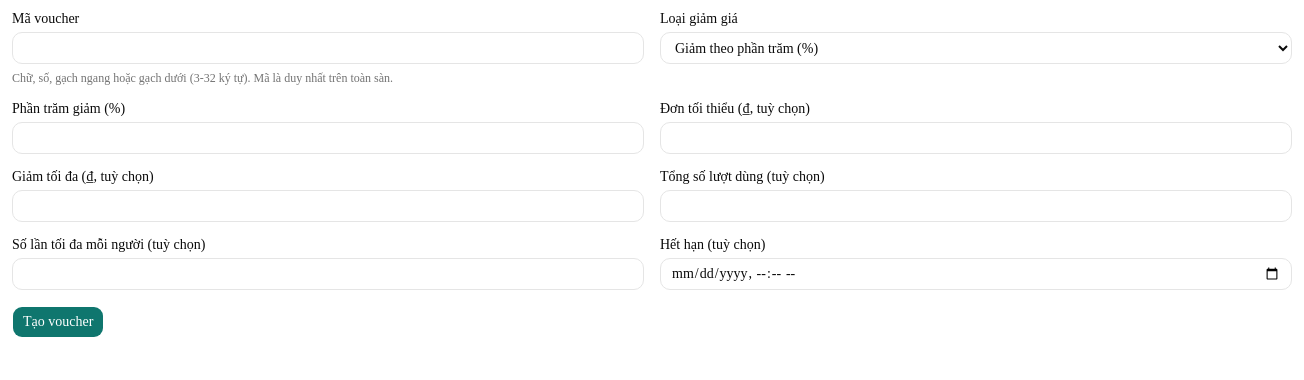
Scenario: VoucherForm › PERCENT vượt 100 -> lỗi tại ô giá trị (tái dùng luật của BE)
Type "SALE10" into the field labelled "Mã voucher" at (328, 48), box [12, 32, 644, 64]
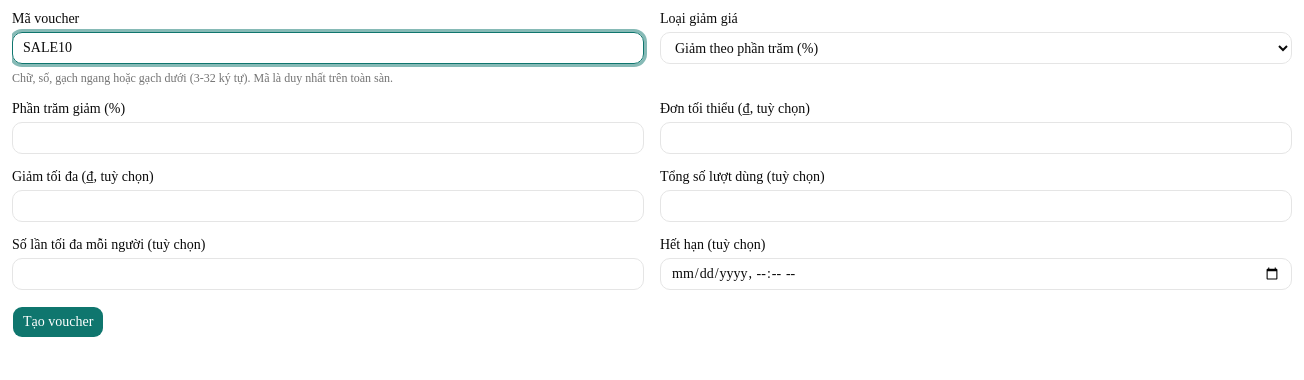
Type "150" into the number field labelled "Phần trăm giảm (%)" at (328, 138), box [12, 122, 644, 154]
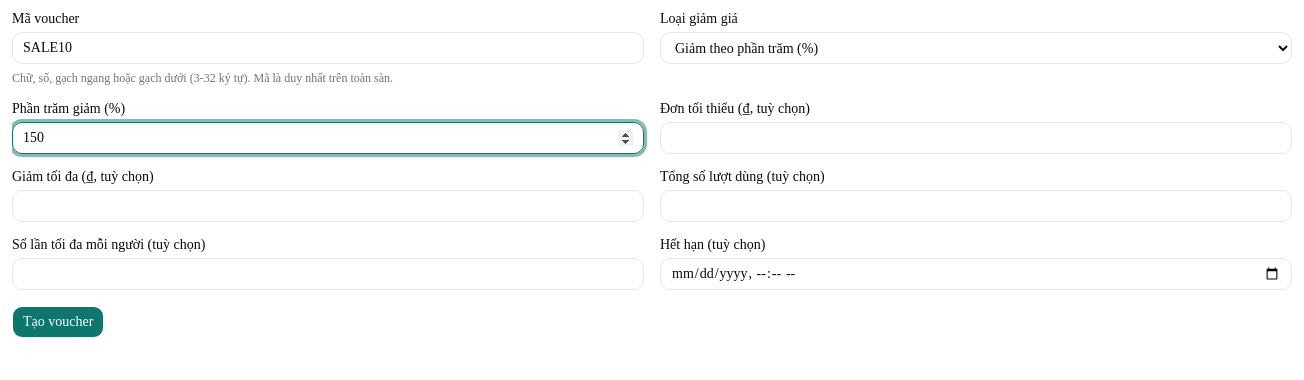
Click the button "Tạo voucher" at (58, 322), box [12, 306, 104, 338]
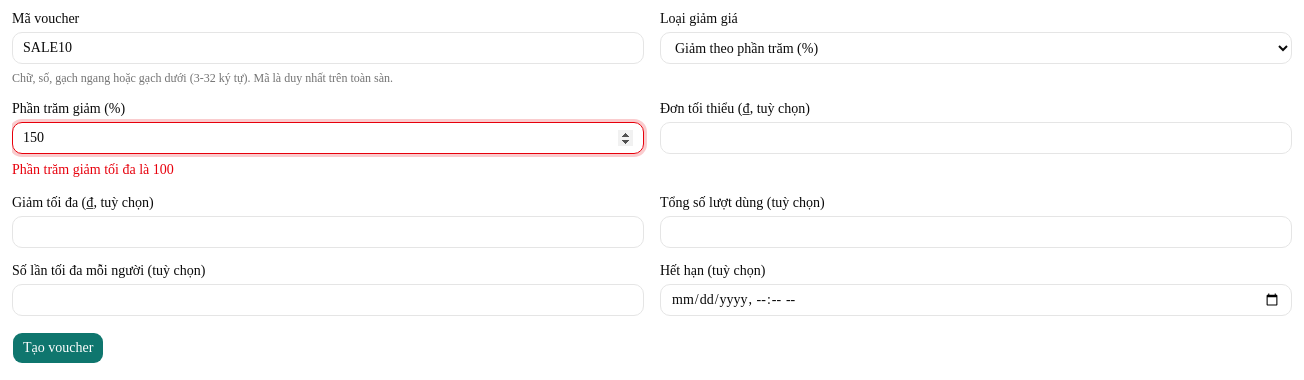
Now the text "Phần trăm giảm tối đa là 100" is shown, box [12, 162, 174, 177]
